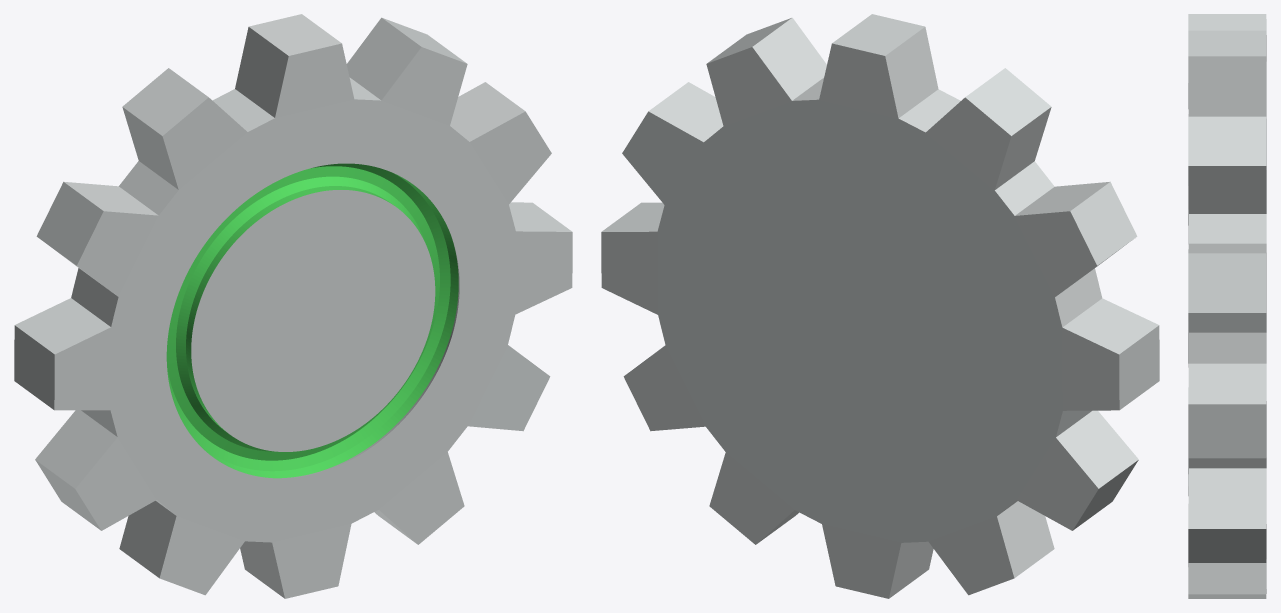
File: green-gear.gltf
The picture shows the model from 3 angles, left to right: view 1: azimuth 30°, elevation 25°; view 2: azimuth 150°, elevation 25°; view 3: azimuth 270°, elevation 25°; orthographic projection. The views are drawn at different scales.
Visible parts, largest first — view 1: Cylinder.001; view 2: Cylinder.001; view 3: Cylinder.001.
Boxes of the visible parts, x1,y1,x2,y2 form: Cylinder.001: (14,14,572,598); Cylinder.001: (601,14,1159,598); Cylinder.001: (1188,14,1266,598).
Bounding box in the file's own units: 1.95 × 1.95 × 0.2627.
